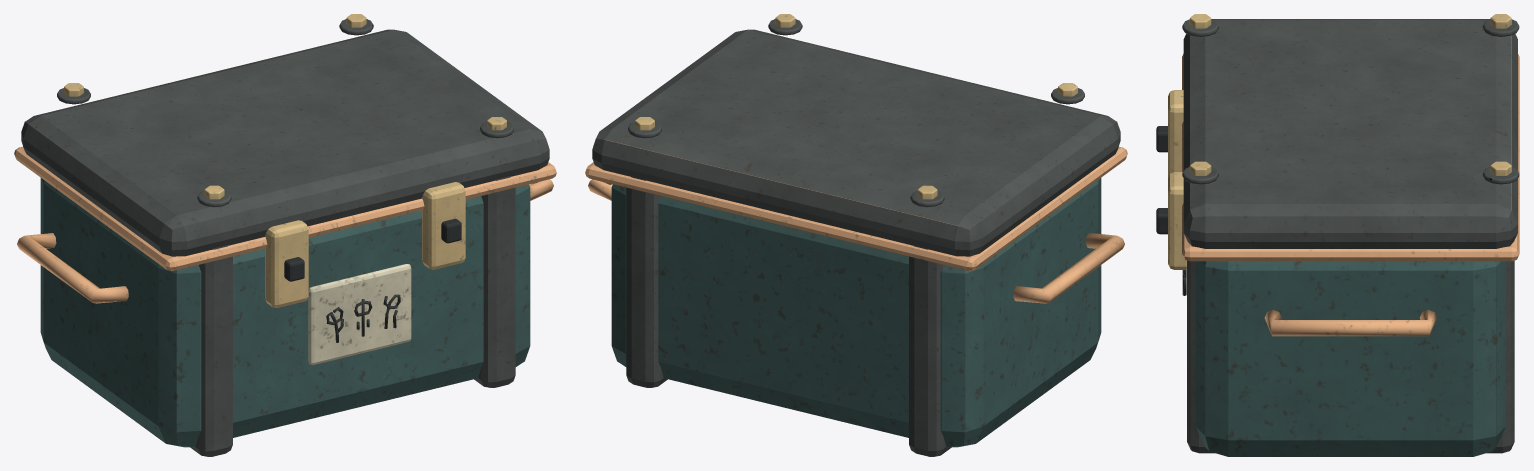
Rendered from frontier-cell-cache.glb.
3 renders of one model, left to right at view 1: azimuth 30°, elevation 25°; view 2: azimuth 150°, elevation 25°; view 3: azimuth 270°, elevation 25°, orthographic. The views are drawn at different scales.
Visible parts, largest first — view 1: GEO-static-PBR; view 2: GEO-static-PBR; view 3: GEO-static-PBR.
Boxes of the visible parts, <box> form: GEO-static-PBR: <box>14,14,556,456</box>; GEO-static-PBR: <box>585,14,1127,456</box>; GEO-static-PBR: <box>1156,14,1519,456</box>.
Bounding box in the file's own units: 1.18 × 0.647 × 0.749.
1 material, 1 textured.
